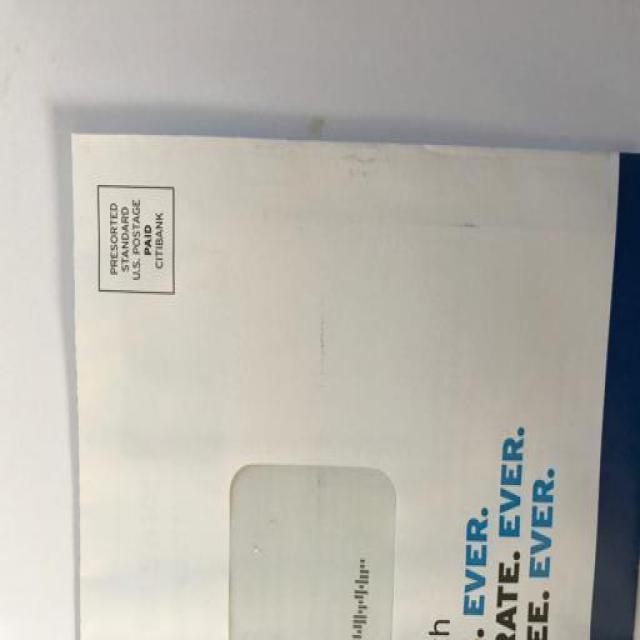paper: (68, 134, 640, 640)
